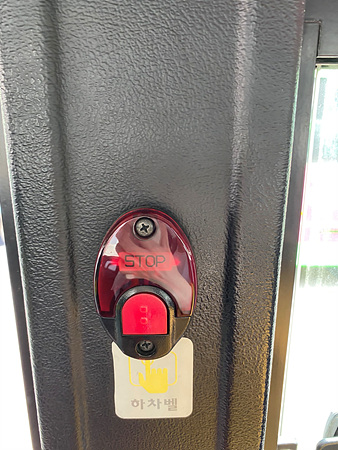bell: (93, 206, 196, 361)
